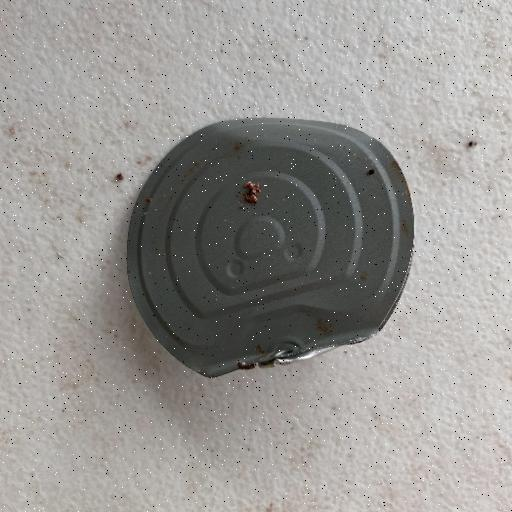Metal: (123, 114, 416, 379)
